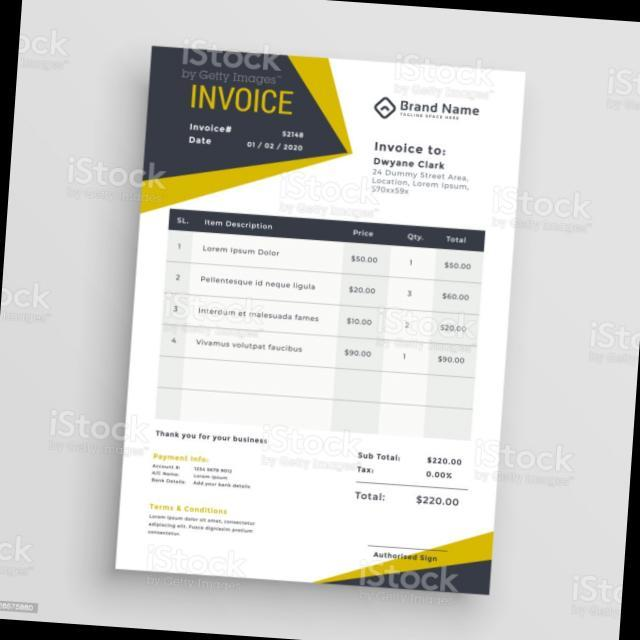customer_address: (370, 169, 470, 204)
customer_name: (369, 153, 462, 172)
invoice_date: (242, 138, 310, 156)
invoice_number: (277, 127, 308, 139)
invoice_subtotal: (422, 452, 466, 467)
invoice_total: (410, 489, 470, 512)
item_description: (194, 238, 325, 368)
item_quantity: (396, 250, 424, 368)
item_total_price: (433, 252, 477, 371)
item_unit_price: (339, 247, 387, 366)
supplier_name: (397, 95, 482, 125)
tax_rate: (420, 466, 460, 485)
